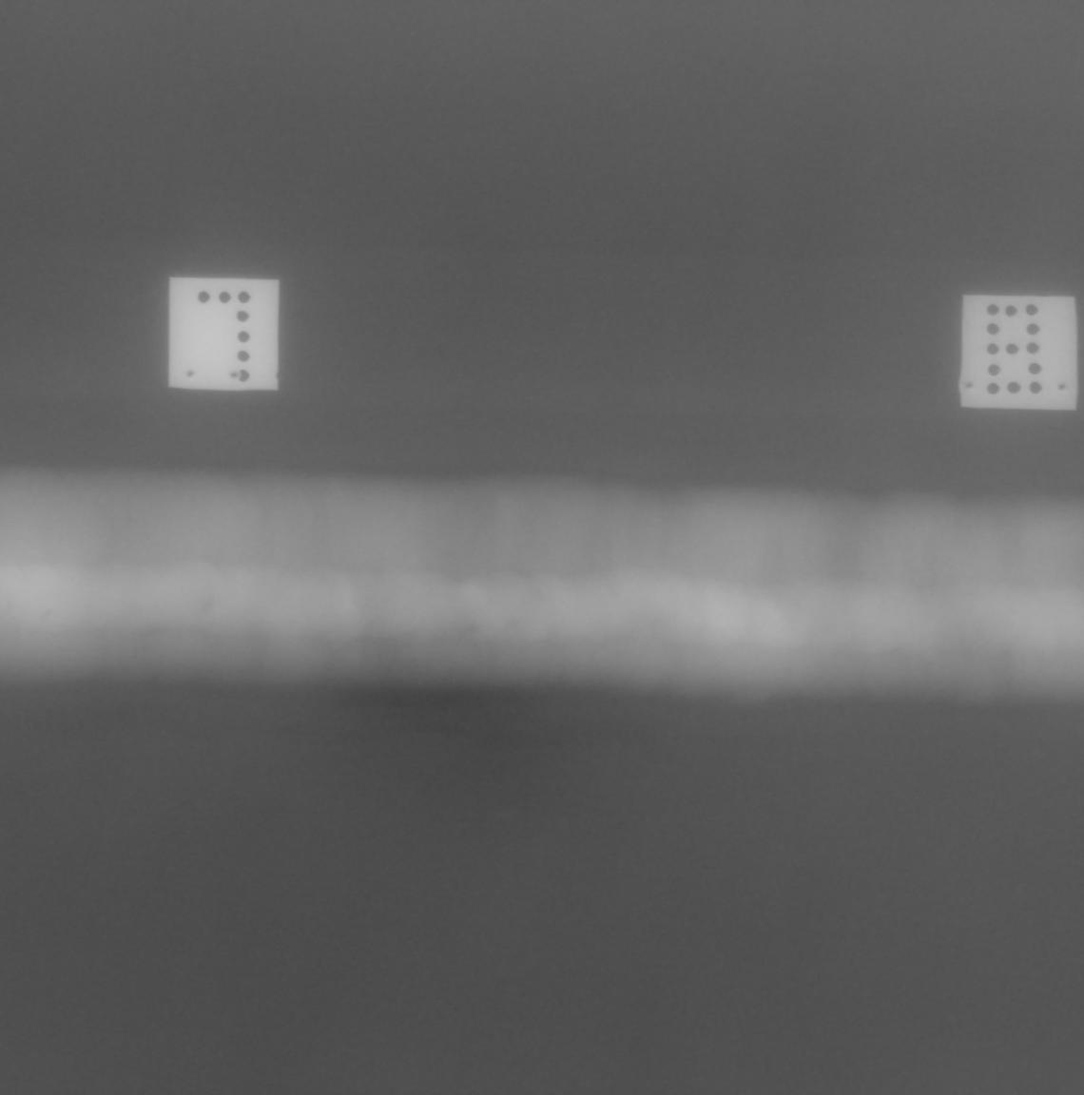Pore/Porosity: (200, 596, 215, 612), (40, 608, 52, 620)
